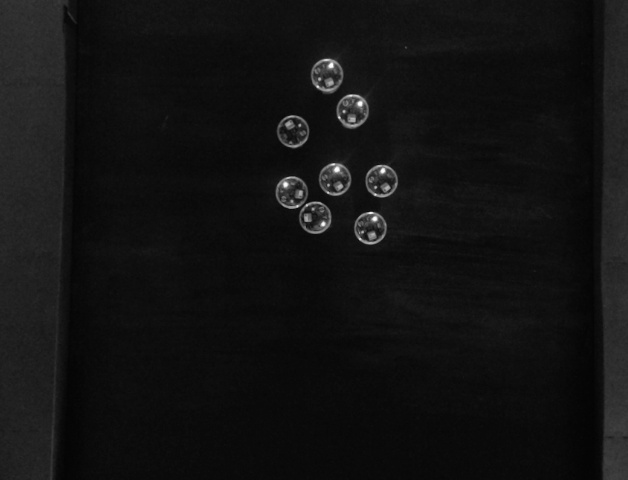epuck_2: (307, 57, 346, 96), (334, 94, 371, 133), (274, 175, 311, 210), (354, 209, 388, 247), (276, 113, 311, 149), (363, 164, 399, 199), (318, 163, 352, 196), (297, 202, 331, 233)
